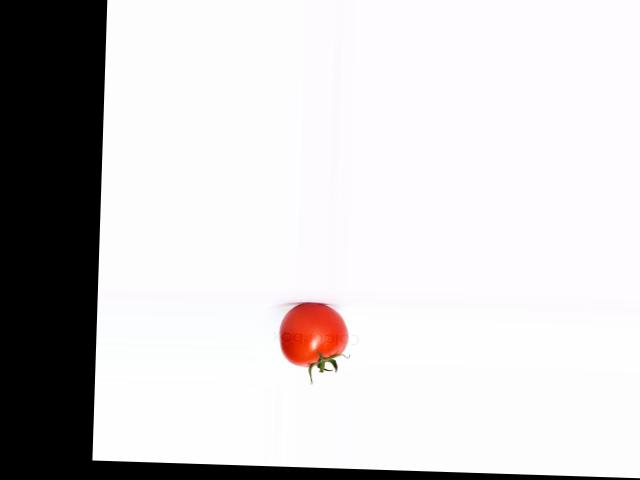tomato: (277, 302, 348, 368)
